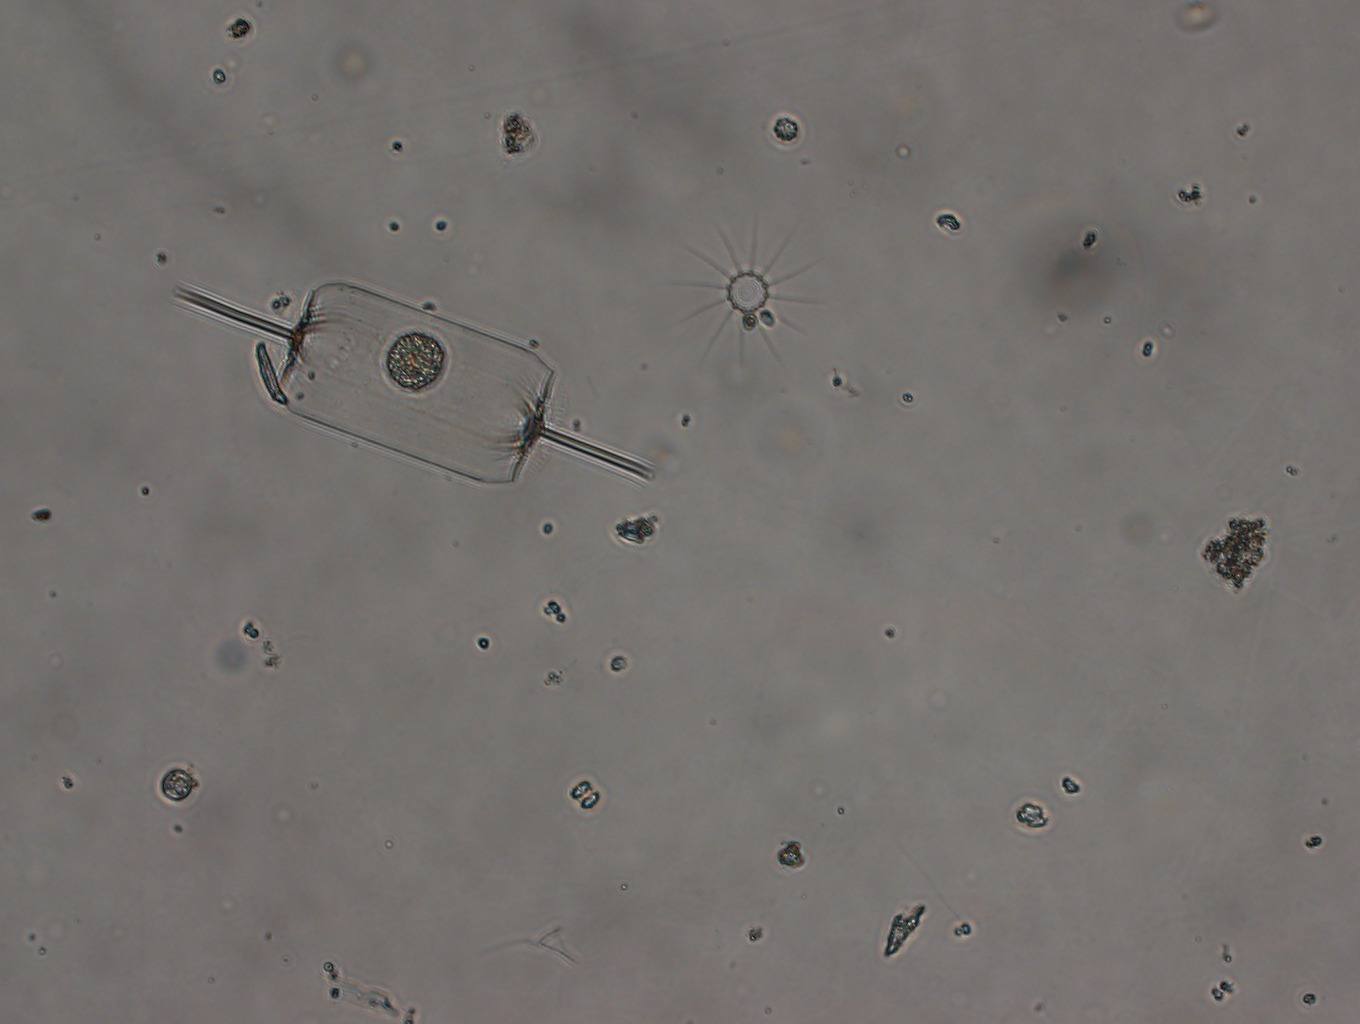bacteriastrum: (658, 211, 828, 364)
ditylum: (170, 276, 657, 486)
